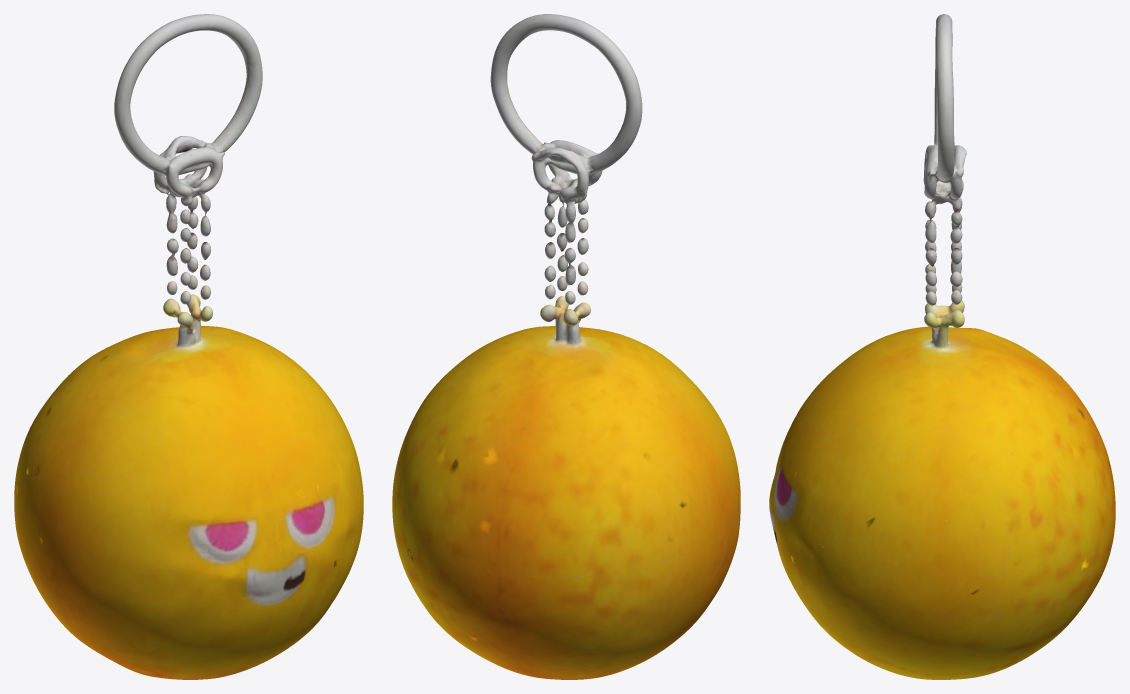
Rendered from hanging-ball-yellow.glb.
The picture shows the model from 3 angles, left to right: view 1: azimuth 30°, elevation 25°; view 2: azimuth 150°, elevation 25°; view 3: azimuth 270°, elevation 25°; orthographic projection.
Bounding box in the file's own units: 0.9708 × 2 × 0.9796.
Materials: 1 (1 with a texture image).
